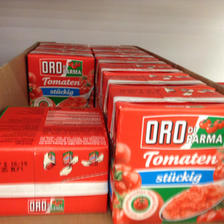tomato_sauce: (104, 84, 224, 219), (1, 105, 109, 217), (27, 48, 95, 106)
